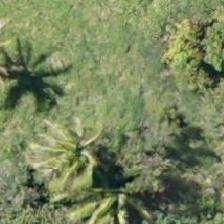coconut_tree: (97, 87, 187, 177), (10, 52, 100, 142), (0, 0, 76, 75), (161, 24, 223, 114)
